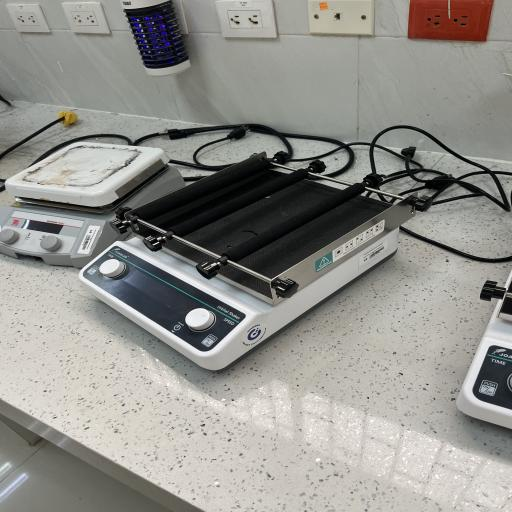Agitador_Orbital_DLAB: (66, 149, 422, 384)
